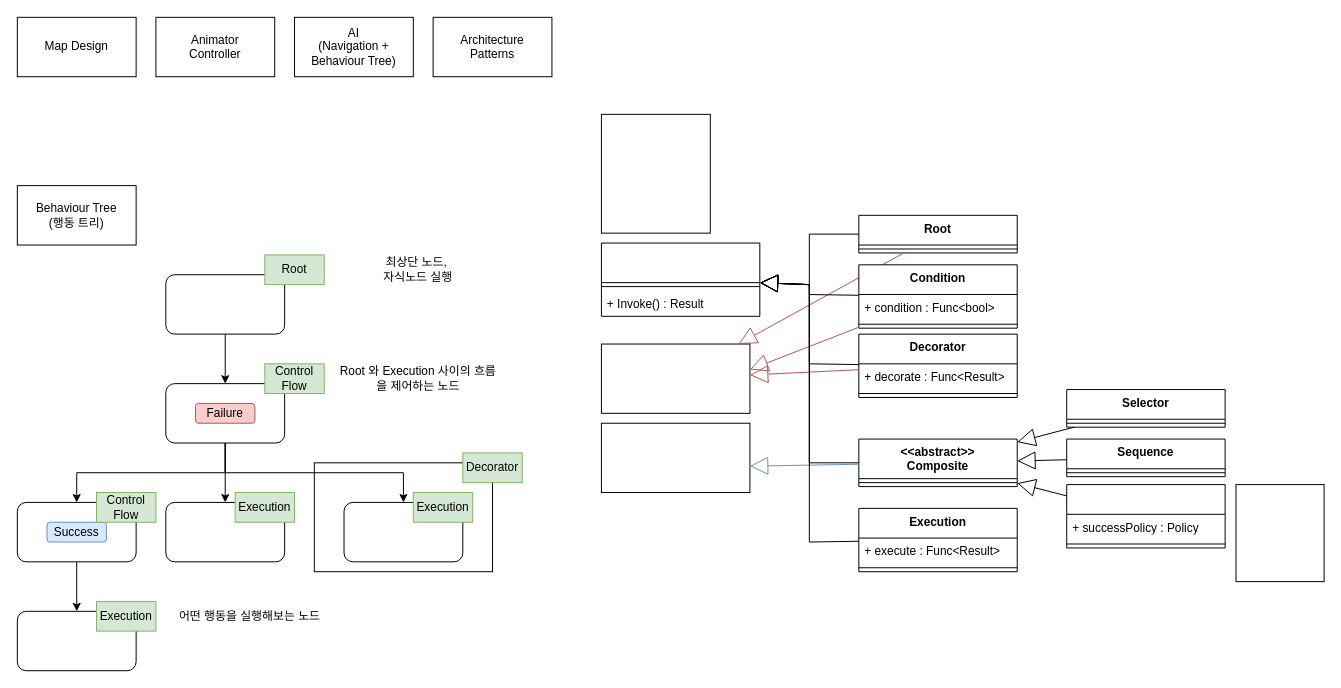
This 1341x688 diagram has some shape labels left out. The box of each missing label's shape, as (x1, y1, x2, y2) in pixels:
<<abstract>> Node: (600, 242, 760, 316)
Parallel: (1066, 484, 1225, 548)
«enum» Policy RequireOne, RequireAll: (1235, 484, 1324, 582)
«enum» Result Success, Failure, Runnging: (600, 113, 710, 233)
«interface» IParentOfChild child : Node: (600, 343, 750, 413)
«interface» IParentOfChildren children : List<Node>: (600, 422, 750, 493)
